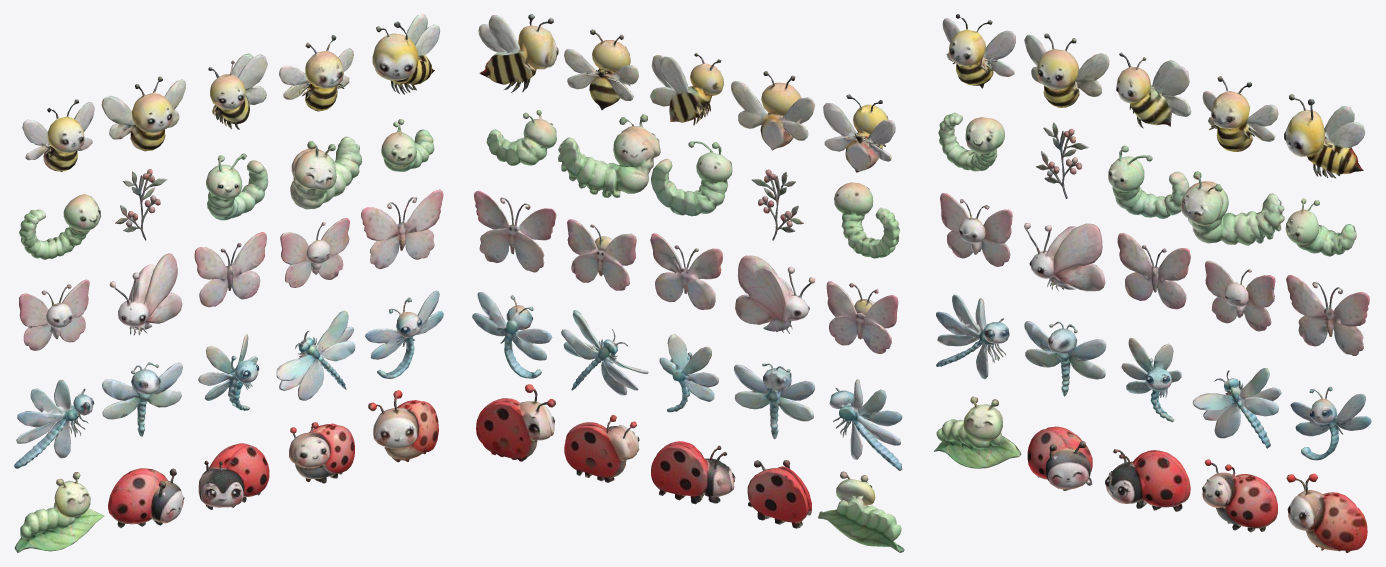
The picture shows the model from 3 angles, left to right: view 1: azimuth 30°, elevation 25°; view 2: azimuth 150°, elevation 25°; view 3: azimuth 330°, elevation 25°; orthographic projection.
Visible parts, largest first — view 1: Mesh 22, Mesh 2, Mesh 17, Mesh 1, Mesh 9, Mesh 6, Mesh 11, Mesh 25, Mesh 16, Mesh 8, Mesh 23, Mesh 12 (+13 smaller); view 2: Mesh 17, Mesh 25, Mesh 23, Mesh 8, Mesh 22, Mesh 11, Mesh 6, Mesh 20, Mesh 2, Mesh 3, Mesh 15, Mesh 5 (+13 smaller); view 3: Mesh 17, Mesh 25, Mesh 11, Mesh 23, Mesh 8, Mesh 22, Mesh 2, Mesh 6, Mesh 15, Mesh 16, Mesh 20, Mesh 12 (+13 smaller).
Part boxes in pixels (x1,y1,x2,y2): Mesh 22: (361, 189, 443, 269); Mesh 2: (14, 472, 104, 552); Mesh 17: (290, 136, 362, 209); Mesh 1: (14, 379, 94, 468); Mesh 9: (108, 468, 184, 528); Mesh 6: (101, 76, 185, 151); Mesh 11: (198, 443, 269, 509); Mesh 25: (372, 14, 439, 94); Mesh 16: (276, 310, 355, 400); Mesh 8: (109, 253, 182, 335); Mesh 23: (368, 390, 438, 462); Mesh 12: (194, 232, 266, 307); Mesh 17: (558, 114, 660, 197); Mesh 25: (478, 14, 558, 92); Mesh 23: (476, 384, 555, 461); Mesh 8: (735, 255, 814, 333); Mesh 22: (474, 190, 556, 272); Mesh 11: (651, 441, 735, 504); Mesh 6: (731, 71, 814, 150); Mesh 20: (564, 415, 639, 482); Mesh 2: (818, 471, 904, 552); Mesh 3: (826, 281, 898, 353); Mesh 15: (650, 53, 723, 125); Mesh 5: (823, 94, 895, 172); Mesh 17: (1180, 171, 1284, 245); Mesh 25: (1284, 94, 1365, 178); Mesh 11: (1105, 449, 1190, 511); Mesh 23: (1286, 473, 1367, 552); Mesh 8: (1024, 223, 1105, 291); Mesh 22: (1286, 275, 1369, 355); Mesh 2: (934, 396, 1021, 468); Mesh 6: (1024, 33, 1109, 107); Mesh 15: (1116, 52, 1191, 128); Mesh 16: (1192, 368, 1281, 448); Mesh 20: (1202, 459, 1277, 532); Mesh 12: (1117, 233, 1190, 309).
Bounding box in the file's own units: 1.89 × 1.89 × 0.2354.
25 materials, 25 textured.
